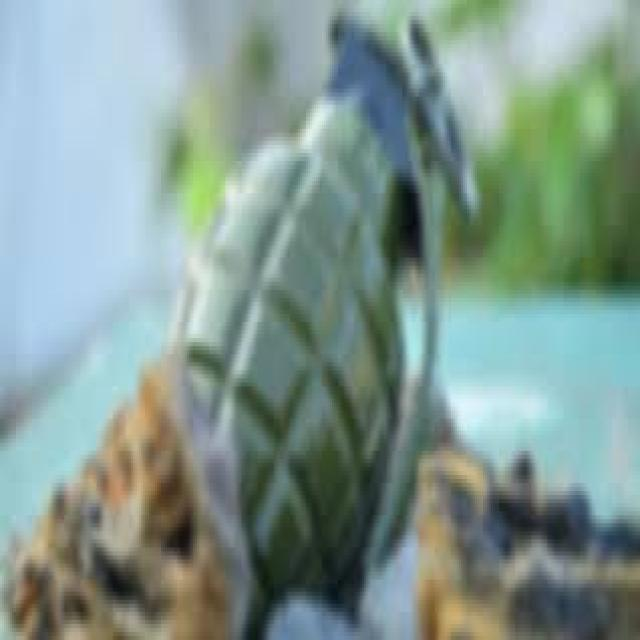grenade: (166, 1, 478, 613)
